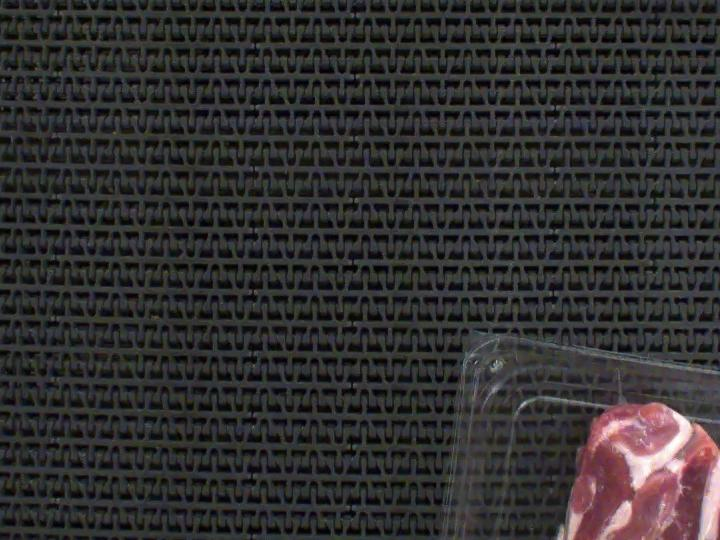packaging-error: (604, 369, 640, 411)
